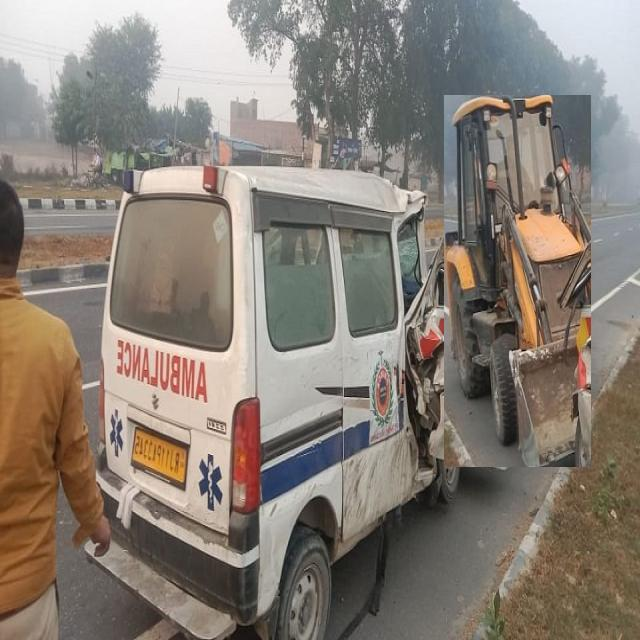accident: (98, 167, 475, 639)
truck: (444, 95, 591, 467)
